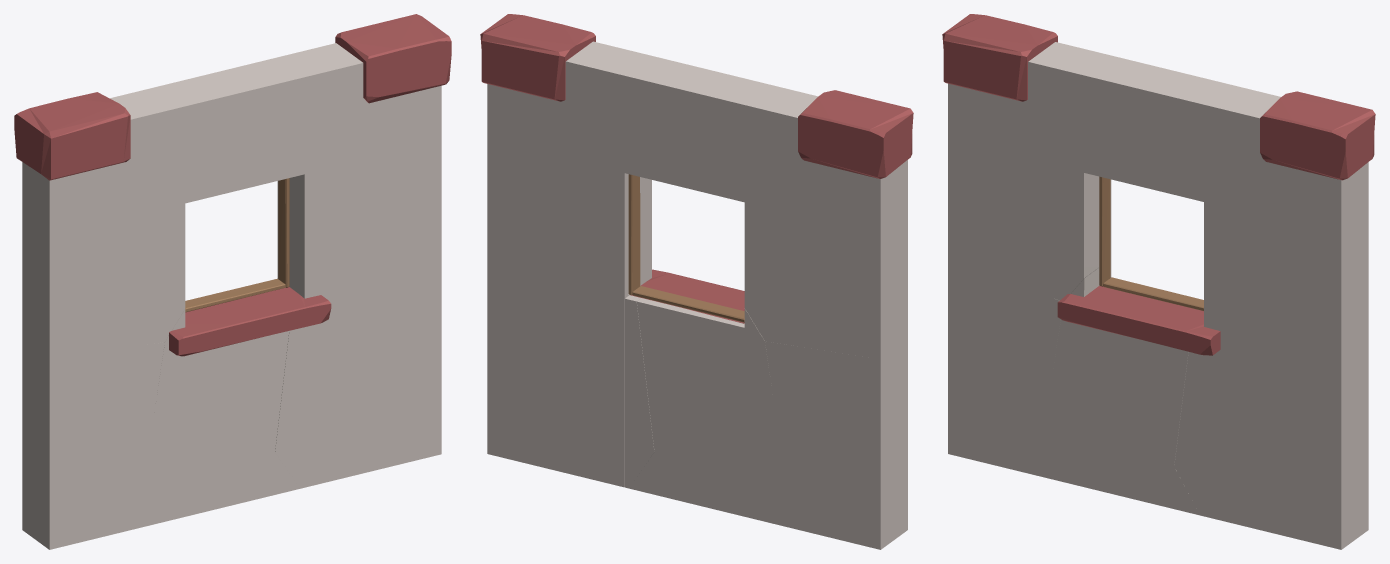
Rendered from PKF_PK_Wall_Window_Small_v2.fbx.
3 views of the same model, side by side, from view 1: azimuth 30°, elevation 25°; view 2: azimuth 150°, elevation 25°; view 3: azimuth 330°, elevation 25° (orthographic).
Visible parts, largest first — view 1: PK_Wall_Window_Small_Chunk_07, PK_Wall_Window_Small_Chunk_09, PK_Wall_Window_Small_Chunk_02, PK_Wall_Window_Small_Chunk_08, PK_Wall_Window_Small_Chunk_06, PK_Wall_Window_Small_Chunk_05, PK_Wall_Window_Small_Chunk_04, PK_Wall_Window_Small_Chunk_00, PK_Wall_Window_Small_Chunk_01, PK_Wall_Window_Small_Chunk_10, PK_Wall_Window_Small_Chunk_03, PK_Wall_Window_Small_Chunk_13 (+1 smaller); view 2: PK_Wall_Window_Small_Chunk_07, PK_Wall_Window_Small_Chunk_09, PK_Wall_Window_Small_Chunk_02, PK_Wall_Window_Small_Chunk_08, PK_Wall_Window_Small_Chunk_06, PK_Wall_Window_Small_Chunk_05, PK_Wall_Window_Small_Chunk_04, PK_Wall_Window_Small_Chunk_00, PK_Wall_Window_Small_Chunk_01, PK_Wall_Window_Small_Chunk_10, PK_Wall_Window_Small_Chunk_03, PK_Wall_Window_Small_Chunk_13 (+1 smaller); view 3: PK_Wall_Window_Small_Chunk_06, PK_Wall_Window_Small_Chunk_08, PK_Wall_Window_Small_Chunk_09, PK_Wall_Window_Small_Chunk_07, PK_Wall_Window_Small_Chunk_05, PK_Wall_Window_Small_Chunk_01, PK_Wall_Window_Small_Chunk_02, PK_Wall_Window_Small_Chunk_04, PK_Wall_Window_Small_Chunk_00, PK_Wall_Window_Small_Chunk_10, PK_Wall_Window_Small_Chunk_03, PK_Wall_Window_Small_Chunk_12 (+1 smaller).
Boxes of the visible parts, <box> form: PK_Wall_Window_Small_Chunk_07: <box>22,176,185,359</box>; PK_Wall_Window_Small_Chunk_09: <box>14,76,225,232</box>; PK_Wall_Window_Small_Chunk_02: <box>22,340,164,549</box>; PK_Wall_Window_Small_Chunk_08: <box>254,14,451,194</box>; PK_Wall_Window_Small_Chunk_06: <box>277,112,441,291</box>; PK_Wall_Window_Small_Chunk_05: <box>152,290,302,452</box>; PK_Wall_Window_Small_Chunk_04: <box>277,244,401,487</box>; PK_Wall_Window_Small_Chunk_00: <box>72,427,300,544</box>; PK_Wall_Window_Small_Chunk_01: <box>355,272,441,463</box>; PK_Wall_Window_Small_Chunk_10: <box>177,63,320,205</box>; PK_Wall_Window_Small_Chunk_03: <box>275,287,314,488</box>; PK_Wall_Window_Small_Chunk_13: <box>278,178,289,287</box>; PK_Wall_Window_Small_Chunk_07: <box>744,175,907,358</box>; PK_Wall_Window_Small_Chunk_09: <box>704,75,913,231</box>; PK_Wall_Window_Small_Chunk_02: <box>765,339,907,549</box>; PK_Wall_Window_Small_Chunk_08: <box>480,14,675,193</box>; PK_Wall_Window_Small_Chunk_06: <box>487,110,651,290</box>; PK_Wall_Window_Small_Chunk_05: <box>636,274,777,451</box>; PK_Wall_Window_Small_Chunk_04: <box>527,243,660,487</box>; PK_Wall_Window_Small_Chunk_00: <box>629,427,857,544</box>; PK_Wall_Window_Small_Chunk_01: <box>487,272,573,463</box>; PK_Wall_Window_Small_Chunk_10: <box>608,61,752,204</box>; PK_Wall_Window_Small_Chunk_03: <box>625,271,672,488</box>; PK_Wall_Window_Small_Chunk_13: <box>628,174,640,295</box>; PK_Wall_Window_Small_Chunk_06: <box>1204,186,1368,367</box>; PK_Wall_Window_Small_Chunk_08: <box>1180,79,1375,236</box>; PK_Wall_Window_Small_Chunk_09: <box>942,14,1151,191</box>; PK_Wall_Window_Small_Chunk_07: <box>948,99,1111,304</box>; PK_Wall_Window_Small_Chunk_05: <box>1051,259,1203,465</box>; PK_Wall_Window_Small_Chunk_01: <box>1255,344,1368,549</box>; PK_Wall_Window_Small_Chunk_02: <box>948,263,1060,459</box>; PK_Wall_Window_Small_Chunk_04: <box>1194,292,1301,540</box>; PK_Wall_Window_Small_Chunk_00: <box>971,382,1199,515</box>; PK_Wall_Window_Small_Chunk_10: <box>1076,65,1220,205</box>; PK_Wall_Window_Small_Chunk_03: <box>1174,315,1203,516</box>; PK_Wall_Window_Small_Chunk_12: <box>1099,176,1110,286</box>.
Size of the model in its own units: 206 by 204 by 35.04.
